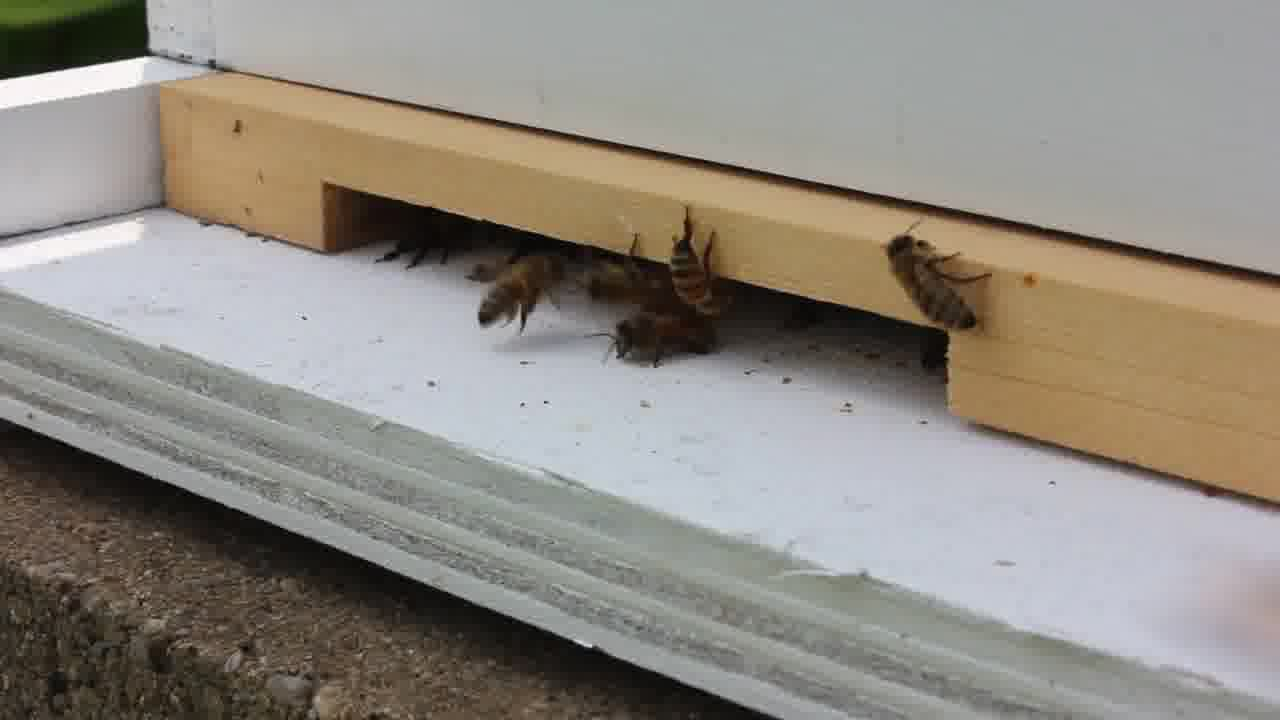pollen: (479, 251, 568, 342)
